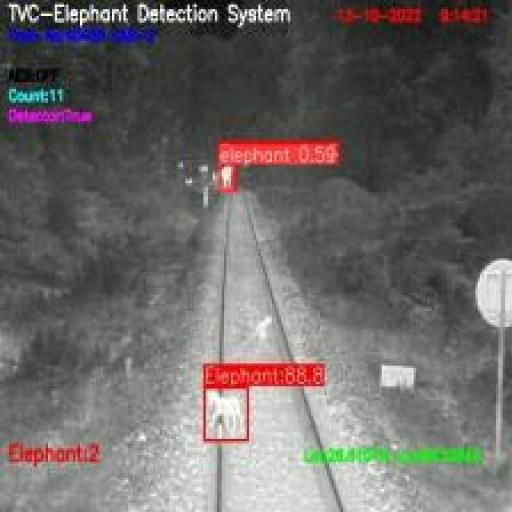Elephant: (220, 162, 233, 190)
